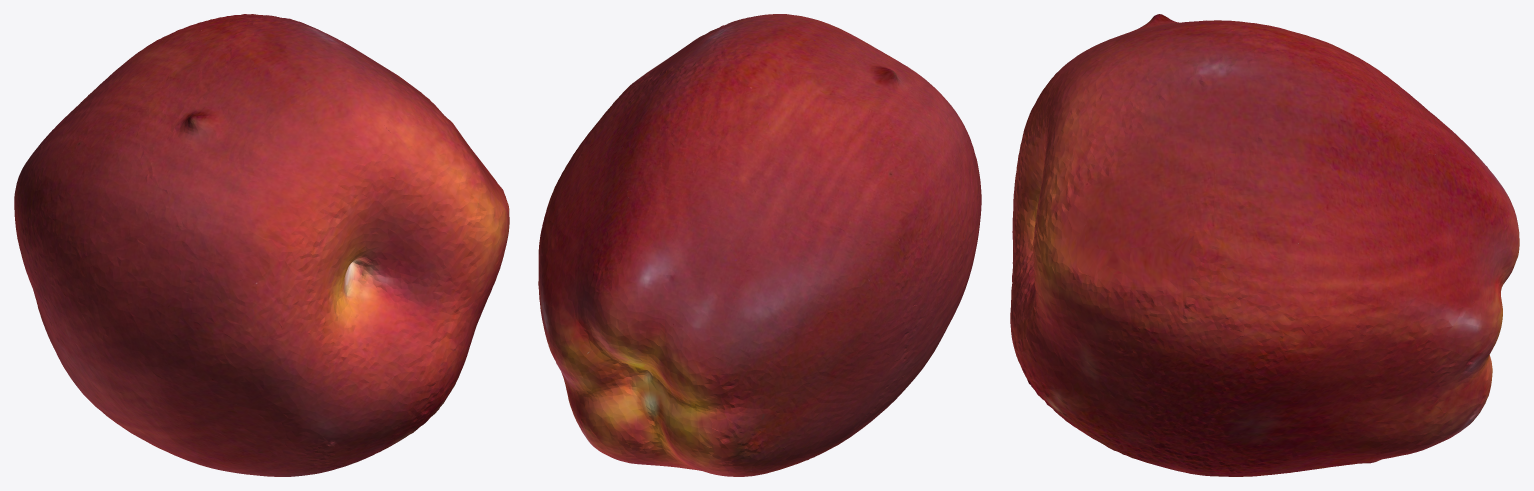
Rendered from apple2.obj.
3 views of the same model, side by side, from view 1: azimuth 30°, elevation 25°; view 2: azimuth 150°, elevation 25°; view 3: azimuth 270°, elevation 25° (orthographic). The views are drawn at different scales.
Visible parts, largest first — view 1: apple2; view 2: apple2; view 3: apple2.
Boxes of the visible parts, x1,y1,x2,y2 form: apple2: (14,14,509,476); apple2: (538,14,981,476); apple2: (1010,14,1519,476).
Size of the model in its own units: 0.0804 by 0.0807 by 0.0883.
